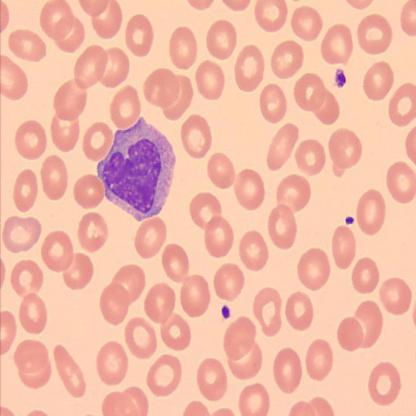Monocyte: (95, 115, 177, 223)
